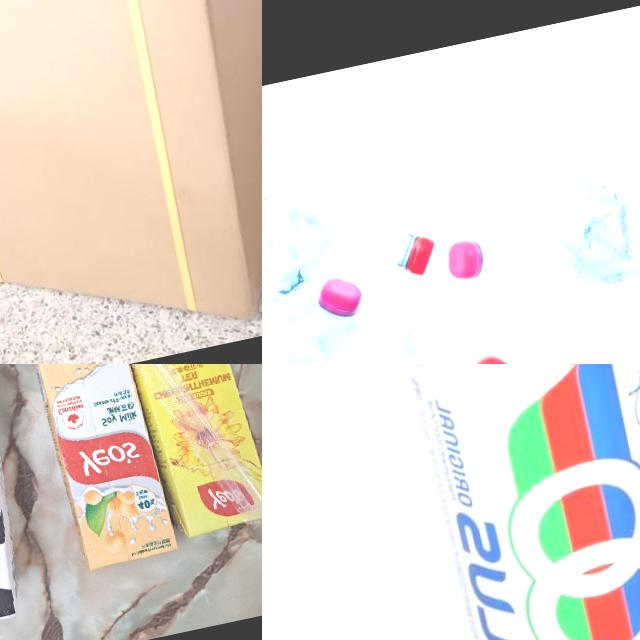caixinha: (32, 364, 177, 572), (123, 364, 262, 539)
garrafa plástica: (262, 163, 423, 343), (463, 154, 640, 315), (342, 249, 506, 364), (262, 296, 373, 364)
lata: (378, 364, 640, 640)
papelão: (0, 0, 262, 364)
tampa plástica: (317, 272, 365, 319), (444, 236, 488, 282), (400, 231, 442, 279), (468, 354, 517, 364)
